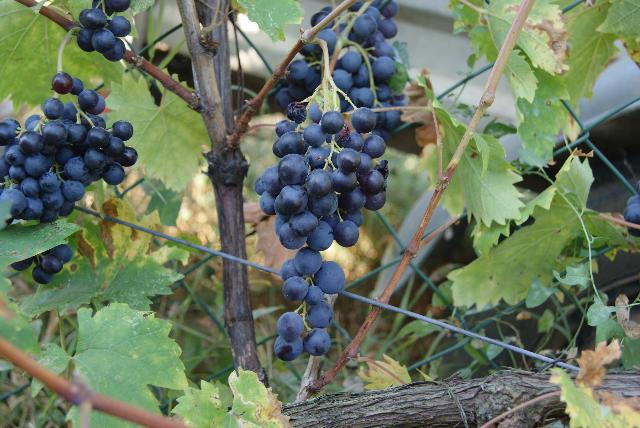grapes: (255, 102, 388, 360), (0, 72, 138, 222), (11, 242, 72, 285)
